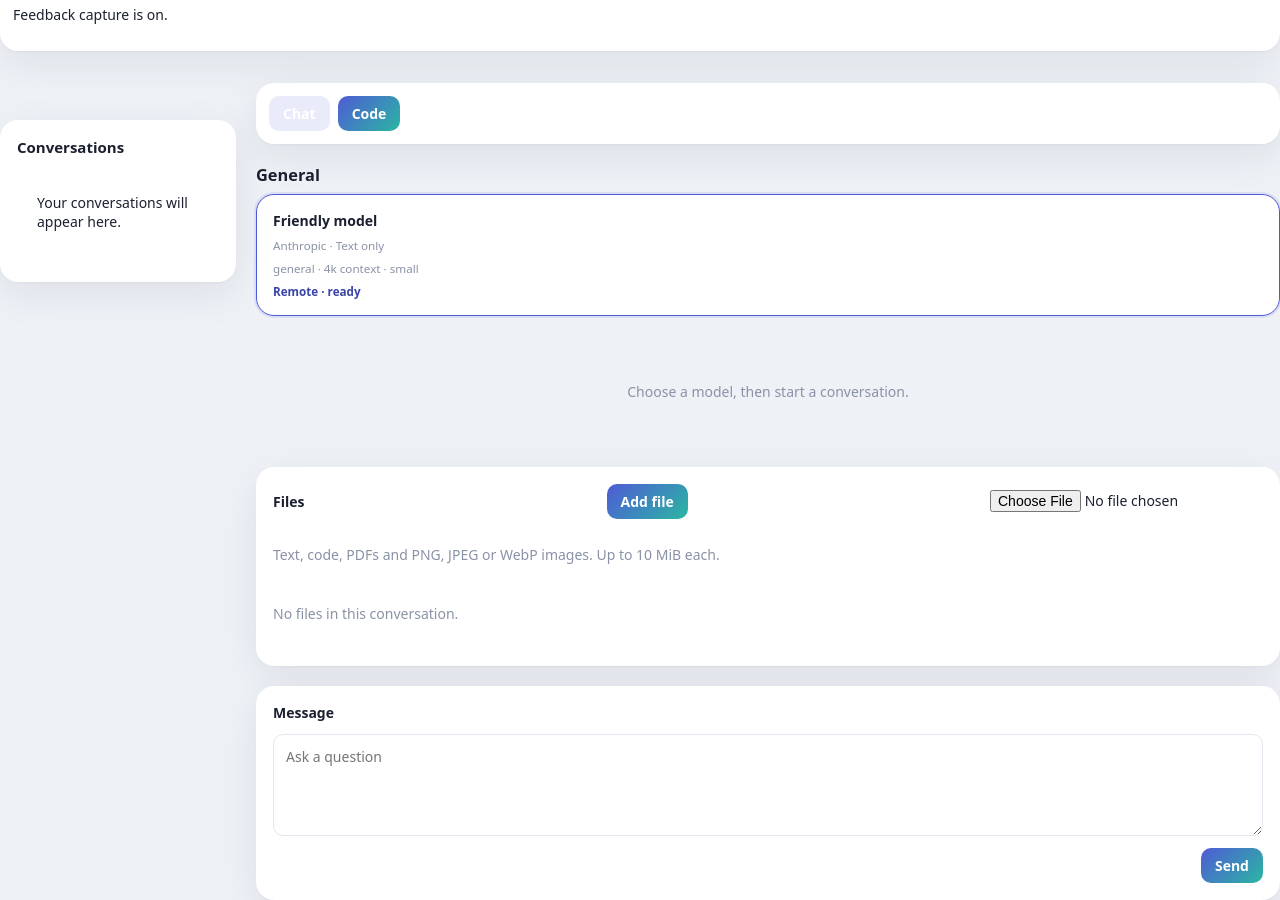
expired send prompts sign-in and keeps the unsent same-tab draft
This screenshot has width=1280, height=900.
(page scrolled)
Expected: the text "Friendly model" is shown, [273,211,377,230]
In the text box labelled "Message": (768, 785) [273,734,1263,836], type "Keep this draft"
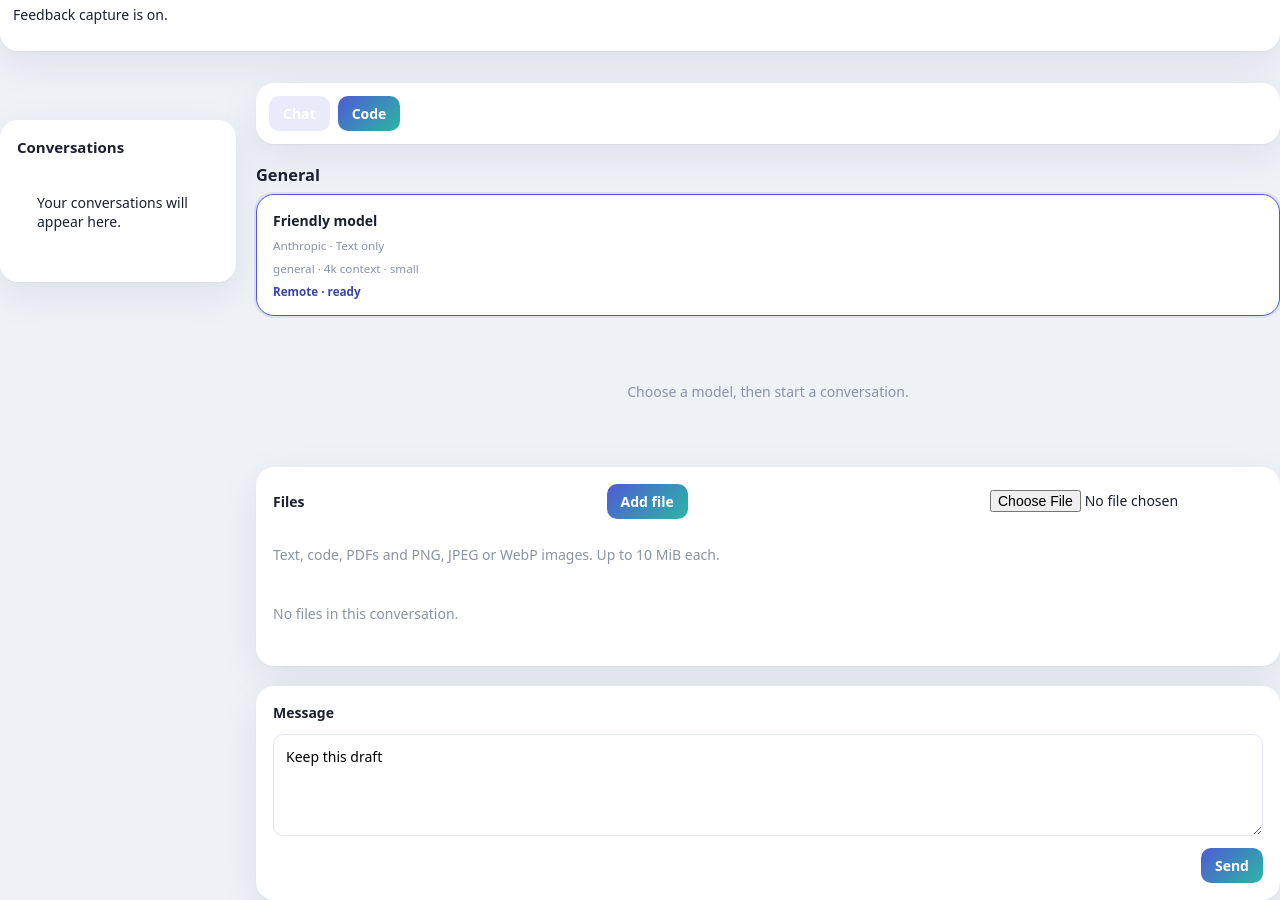
Click the button "Send": (1232, 865) [1201,848,1263,883]
(page scrolled)
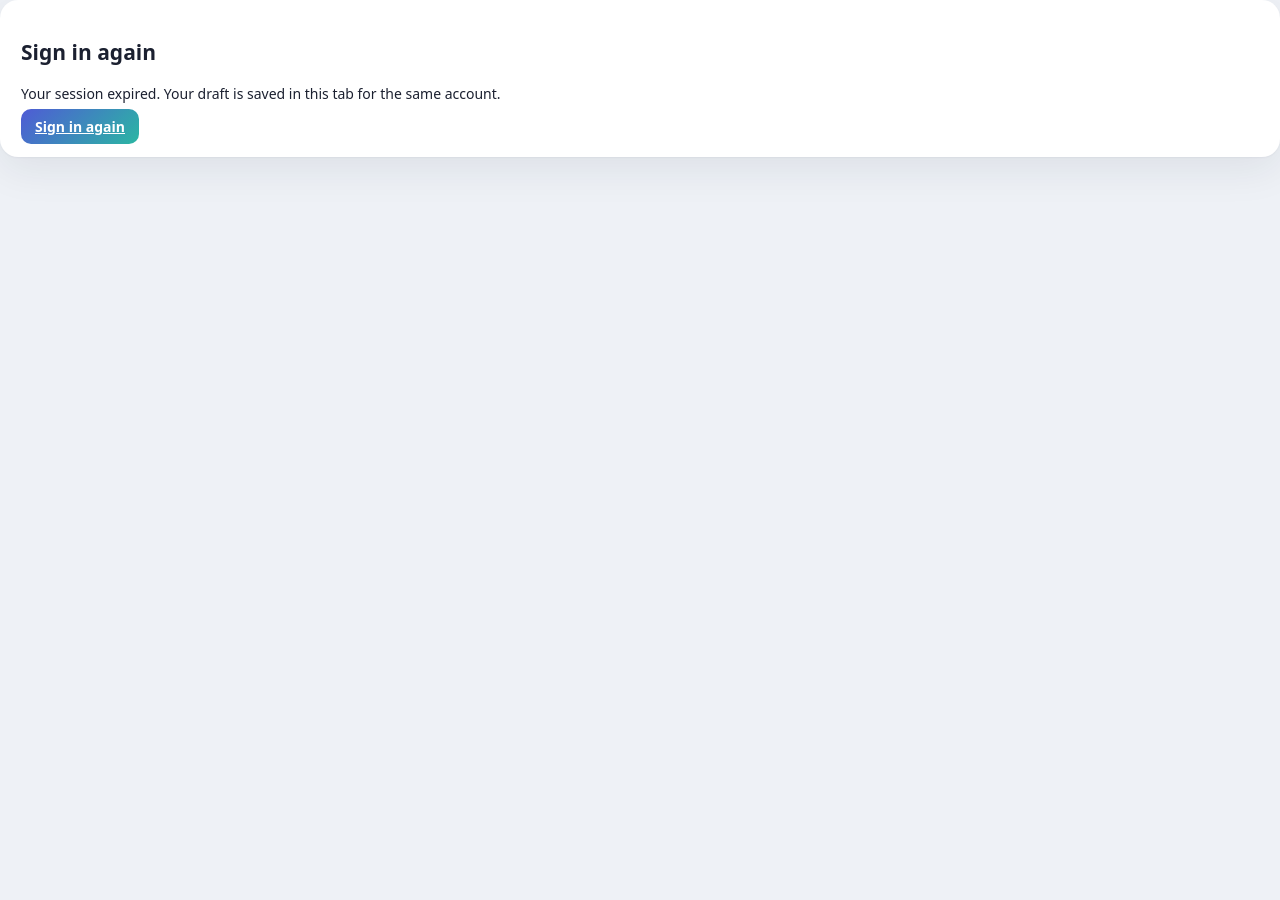
Now the heading "Sign in again" is shown, box [21,38,156,66]
